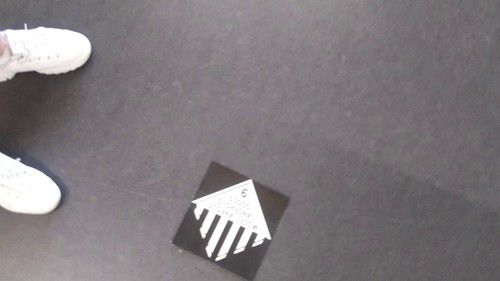misgoods: (189, 182, 283, 260)
